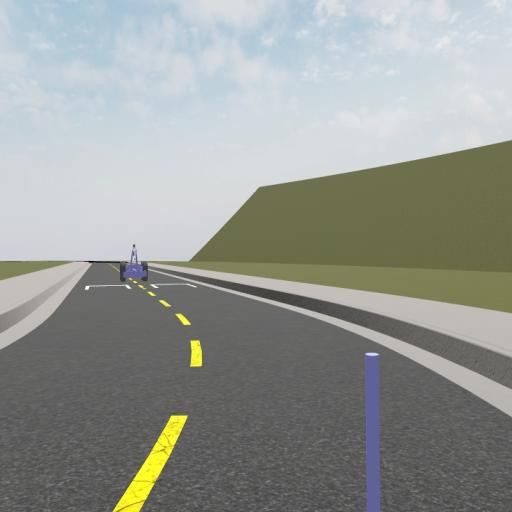ERP-42: (121, 242, 149, 283)
